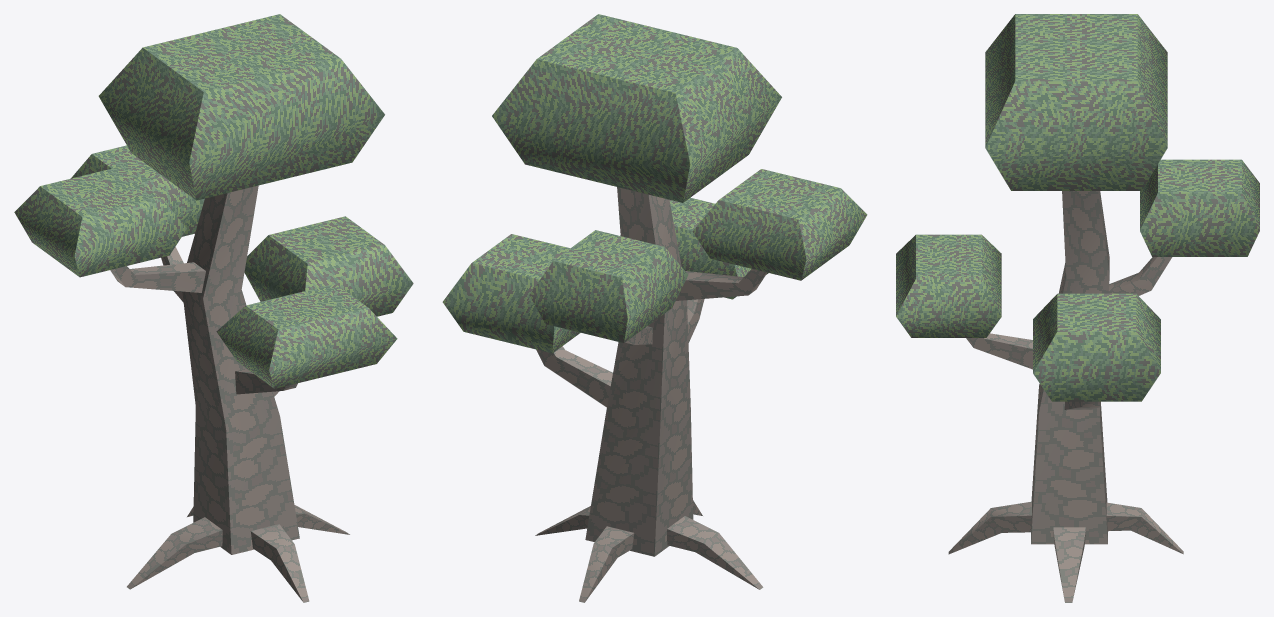
Rendered from 02b7_Tree.glb.
3 views of the same model, side by side, from view 1: azimuth 30°, elevation 25°; view 2: azimuth 150°, elevation 25°; view 3: azimuth 270°, elevation 25° (orthographic).
Parts seen in each view (by area): view 1: part_0; view 2: part_0; view 3: part_0.
Part boxes in pixels (bbox=[...]): part_0: bbox=[14, 14, 413, 602]; part_0: bbox=[442, 14, 867, 602]; part_0: bbox=[896, 14, 1259, 602].
Size of the model in its own units: 4.62 by 6.39 by 4.17.
1 material, 1 textured.
